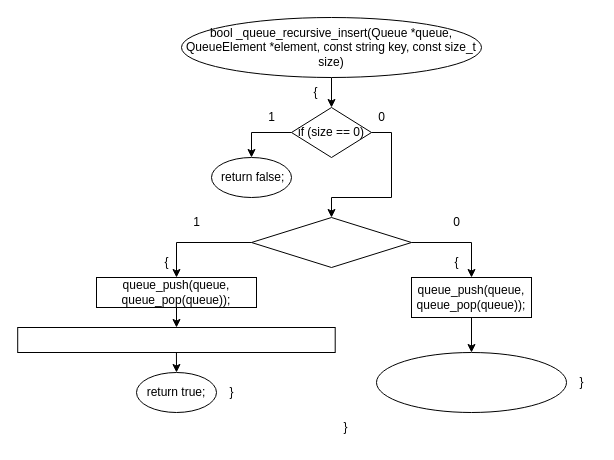
This 614x460 diagram has some shape labels left out. Each missing label, with the box of its shape:
_queue_recursive_insert(queue, element, key, size - 1);: (17, 326, 335, 352)
if (queue->first->key == key): (250, 216, 412, 268)
return _queue_recursive_insert(queue, element, key, size - 1);: (376, 352, 566, 412)
